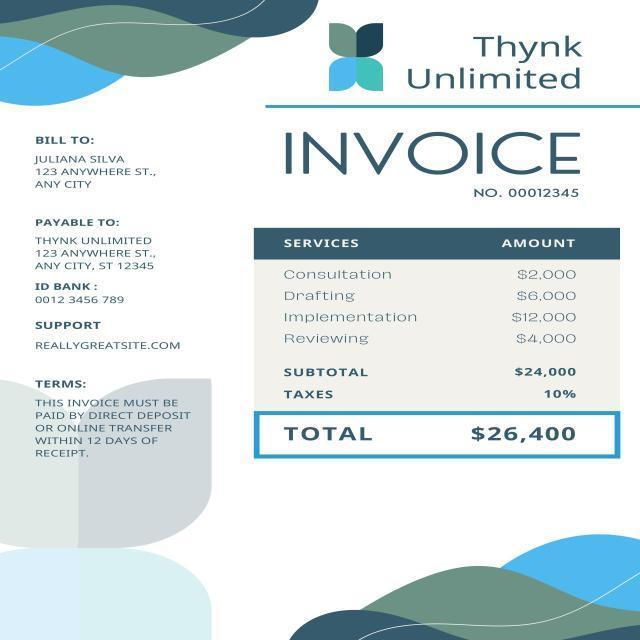ROI: (273, 221, 601, 352), (278, 120, 588, 205), (27, 211, 194, 355), (27, 374, 201, 464), (396, 22, 598, 95), (279, 361, 583, 406), (275, 412, 584, 455), (28, 128, 161, 193)
